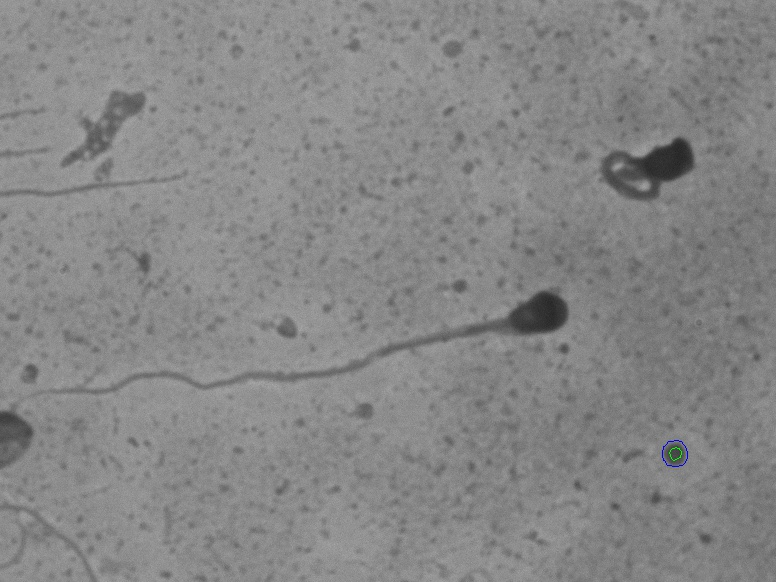Abnormal: (28, 284, 584, 445)
